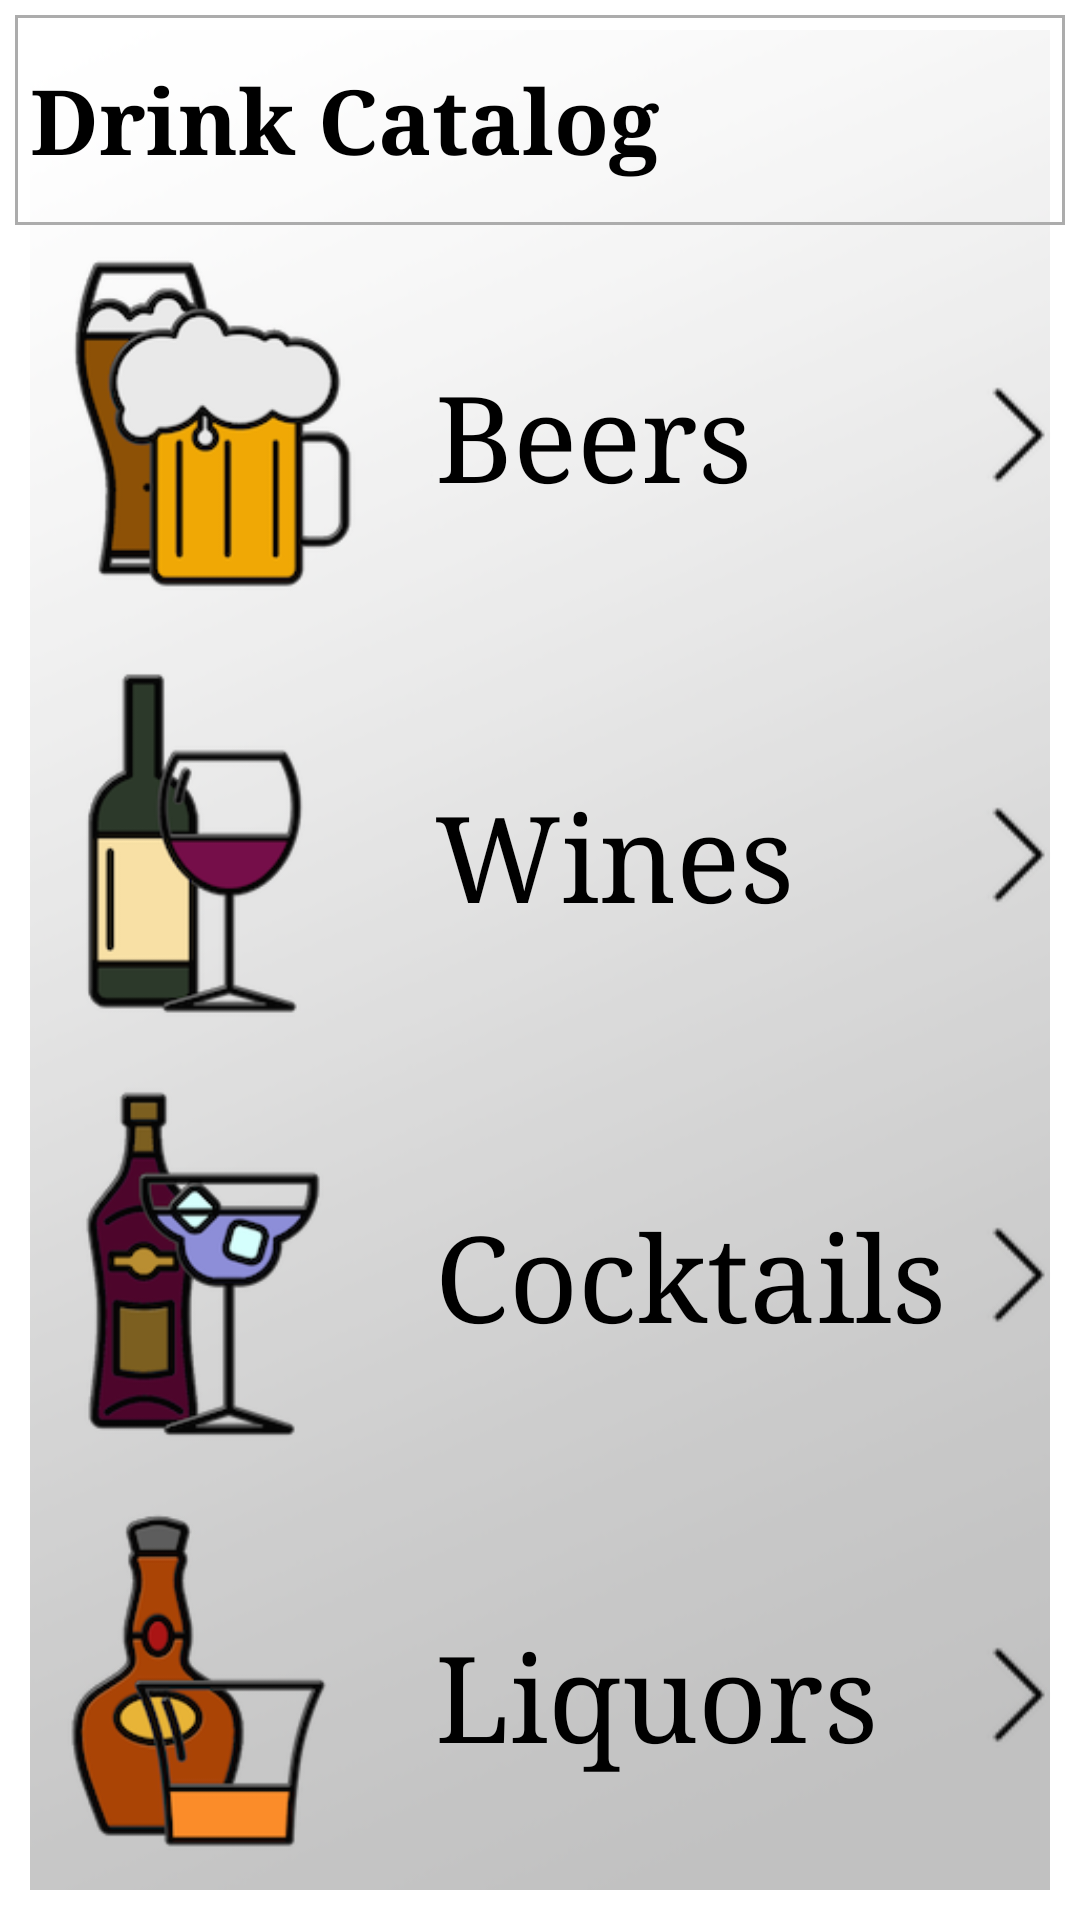

Screen size 1080w x 1920h. Icon name, then its center in pixels as (x=x, y=y):
beericon: (x=213, y=424)
